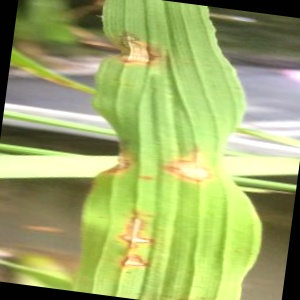Brown_Spot: (92, 21, 177, 79), (155, 138, 224, 194), (109, 201, 162, 273), (94, 135, 138, 190)
